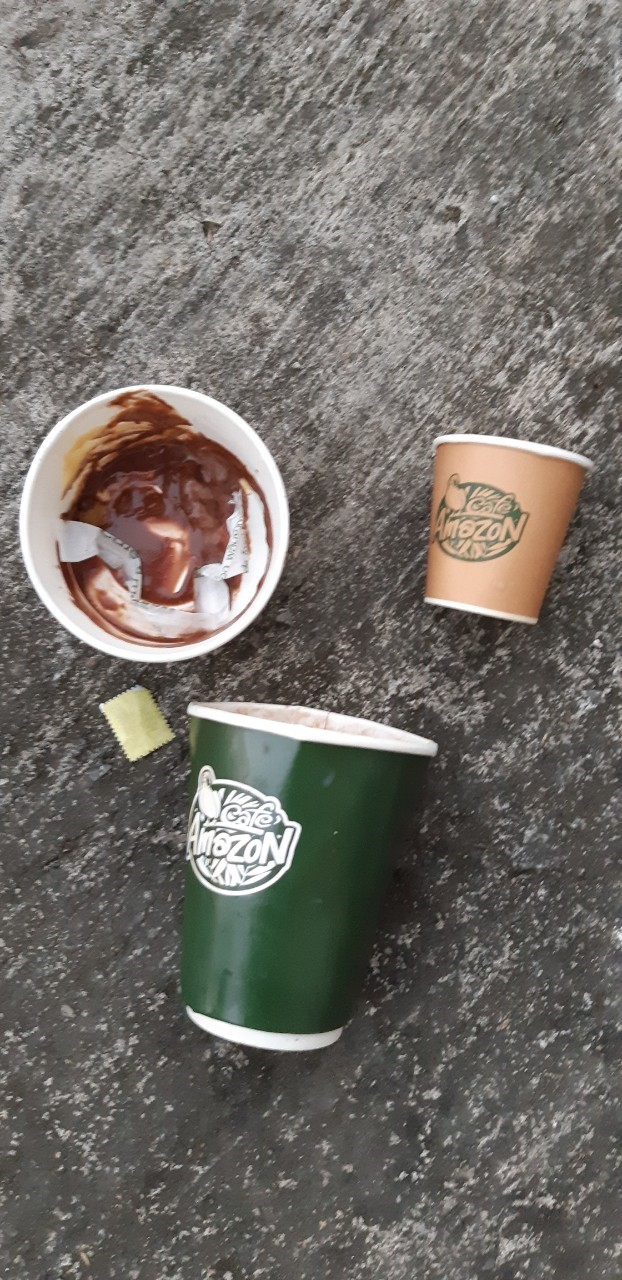PaperCup: (159, 692, 435, 1057), (16, 382, 294, 663), (418, 417, 582, 631)
